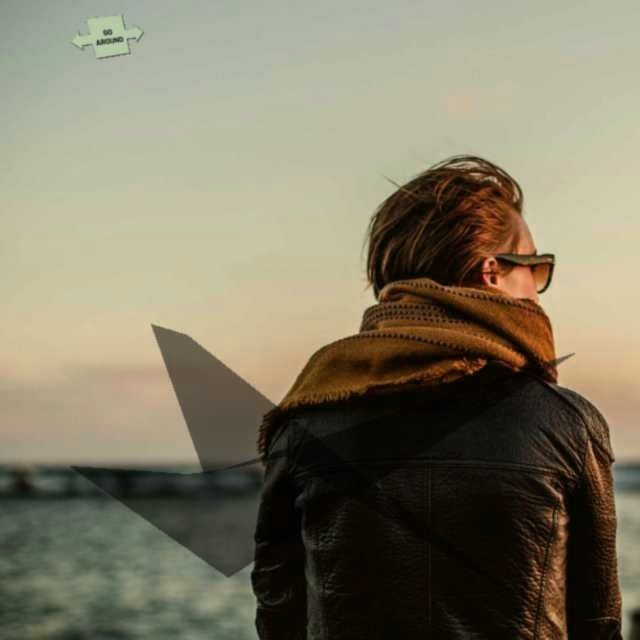GO_AROUND: (70, 14, 144, 59)
